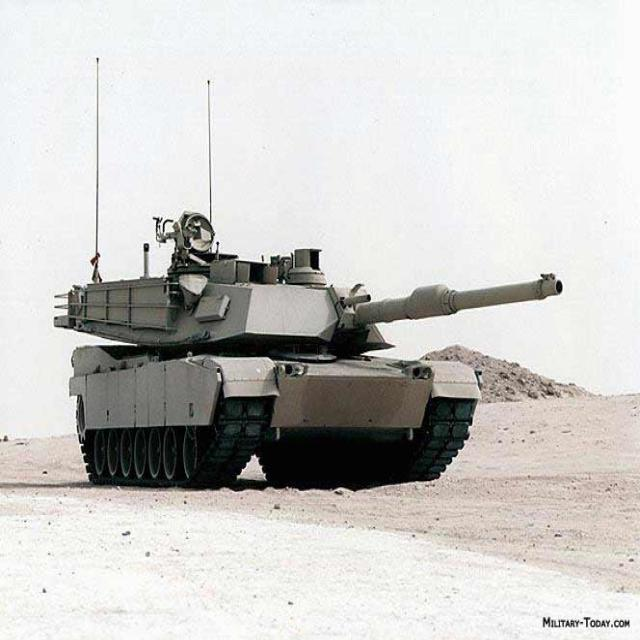Tank: (42, 197, 561, 518)
